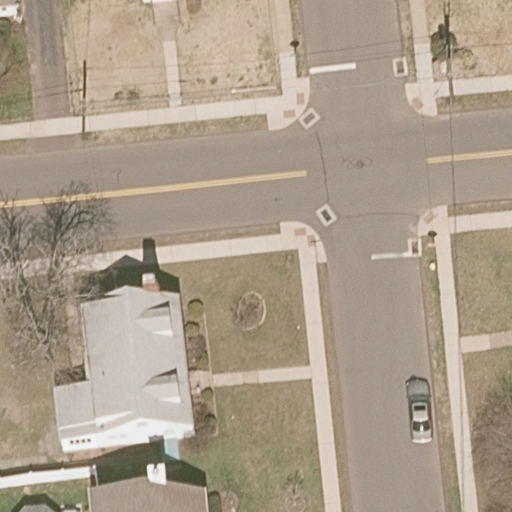DT: (430, 23, 458, 101), (72, 81, 94, 139)
